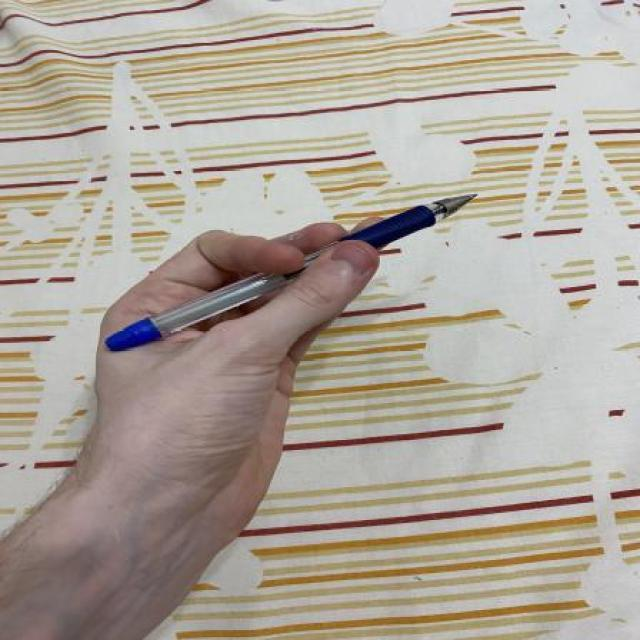pen: (105, 192, 479, 352)
